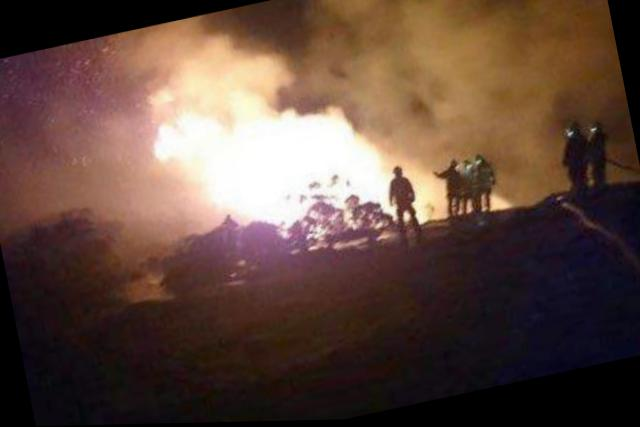fire: (140, 31, 398, 275)
